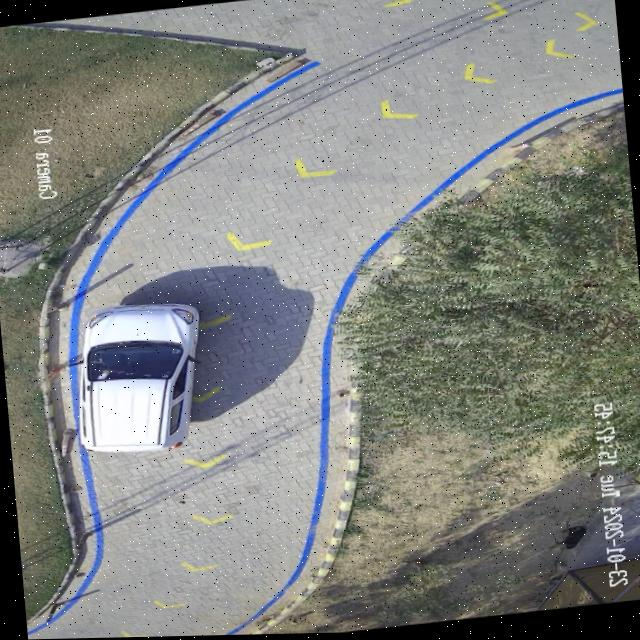car: (78, 305, 198, 453)
